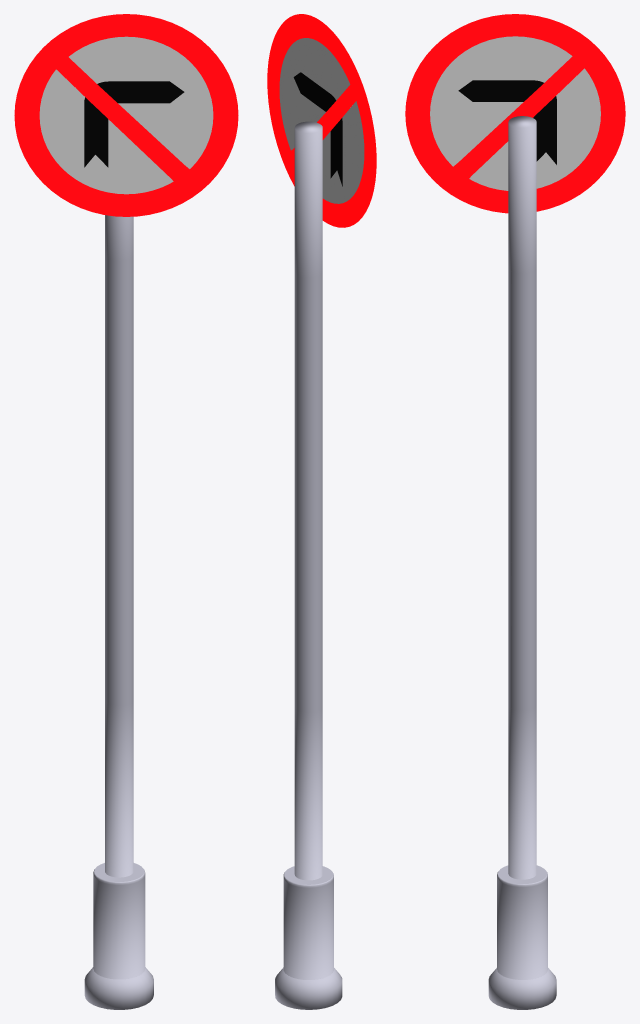
Rendered from SagaDonulmezTabelasi.dae.
The picture shows the model from 3 angles, left to right: view 1: azimuth 90°, elevation 25°; view 2: azimuth 210°, elevation 25°; view 3: azimuth 270°, elevation 25°; orthographic projection. The views are drawn at different scales.
Visible parts, largest first — view 1: Base_circle.001, Base_body.001; view 2: Base_body.001, Base_circle.001; view 3: Base_circle.001, Base_body.001.
Boxes of the visible parts, <box> form: Base_circle.001: <box>14,14,238,216</box>; Base_body.001: <box>84,215,153,1009</box>; Base_body.001: <box>275,121,342,1009</box>; Base_circle.001: <box>267,14,376,227</box>; Base_circle.001: <box>405,14,625,213</box>; Base_body.001: <box>488,116,556,1009</box>.
Bounding box in the file's own units: 0.1839 × 0.6 × 2.93.
